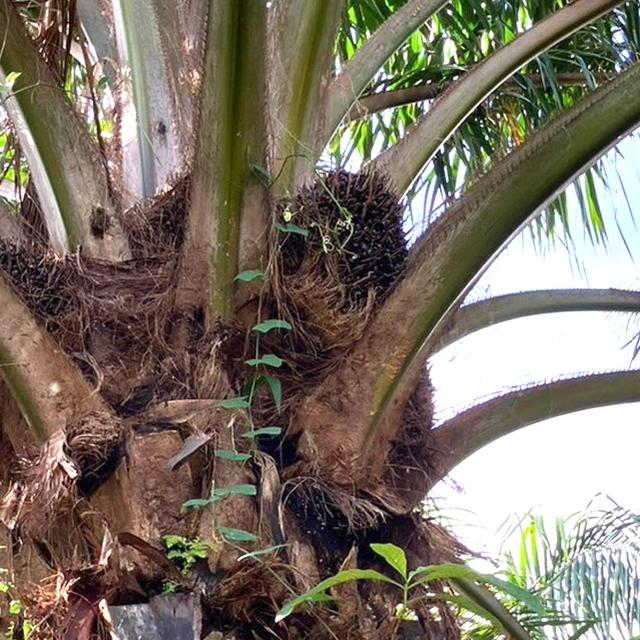unripe: (284, 154, 418, 321)
